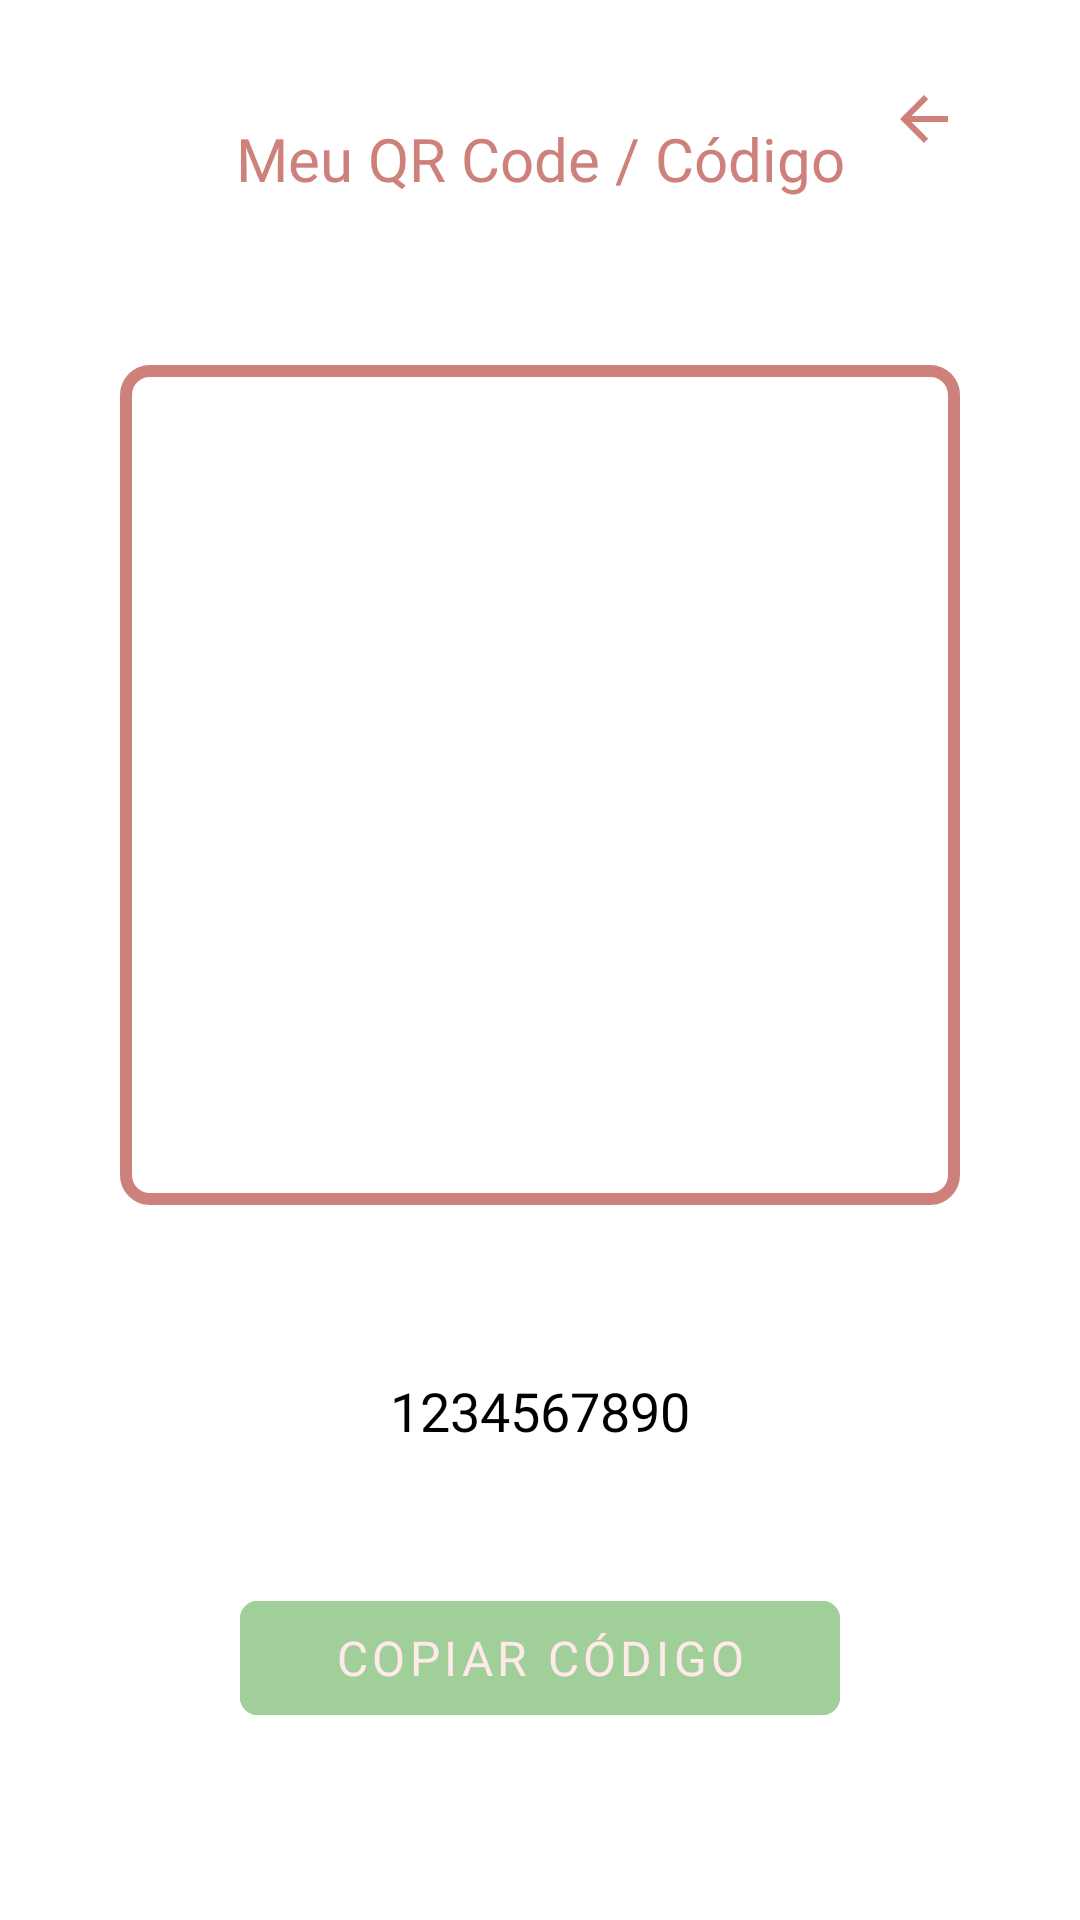

Where icons sit on this 1080px×1920px app screen, as Rect(x1, y1, x2, y2):
arrow back: Rect(900, 95, 948, 143)
